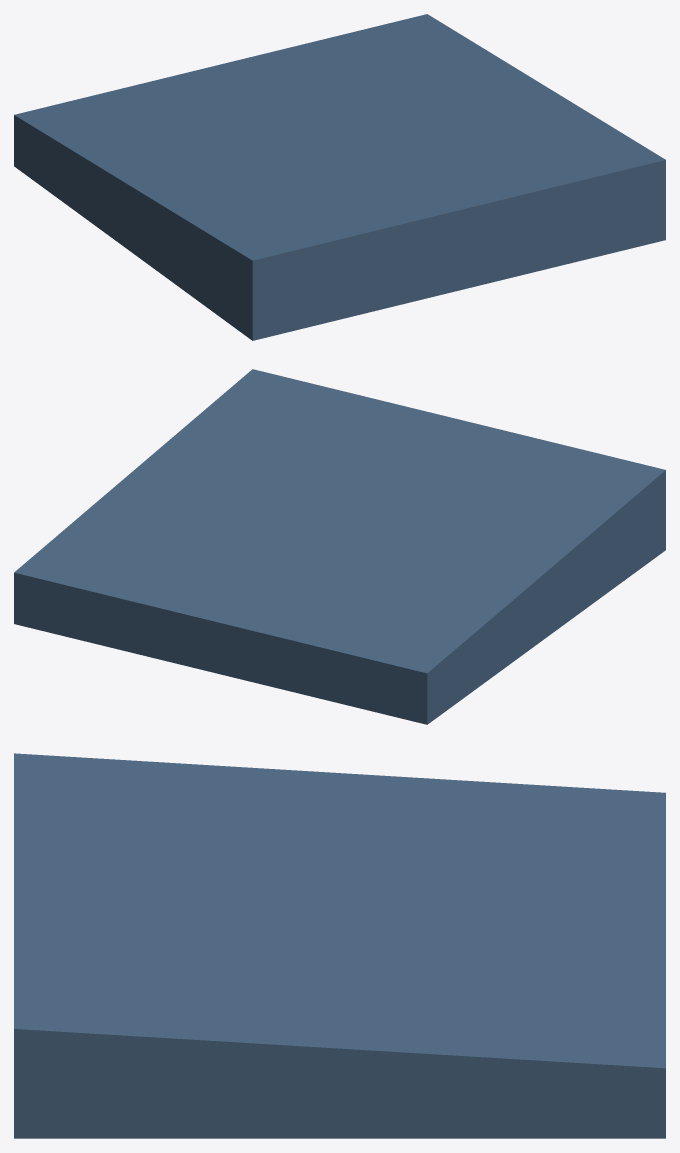
Rendered from step_02.glb.
The picture shows the model from 3 angles, top to bottom: view 1: azimuth 30°, elevation 25°; view 2: azimuth 150°, elevation 25°; view 3: azimuth 270°, elevation 25°; orthographic projection. The views are drawn at different scales.
Parts seen in each view (by area): view 1: part__seat cushion cover; view 2: part__seat cushion cover; view 3: part__seat cushion cover.
Part boxes in pixels (x1=…): part__seat cushion cover: x1=14, y1=14, x2=665, y2=340; part__seat cushion cover: x1=14, y1=369, x2=665, y2=724; part__seat cushion cover: x1=14, y1=753, x2=665, y2=1138.
Bounding box in the file's own units: 450 × 83.5 × 450.
